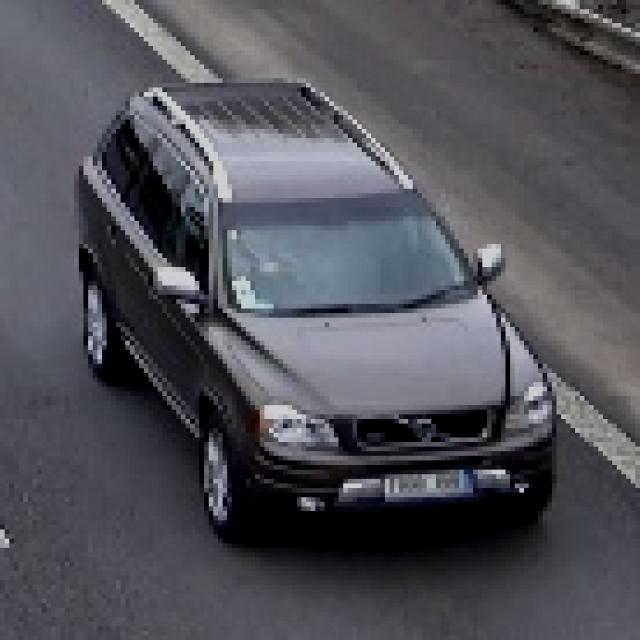SUV: (98, 93, 539, 517)
